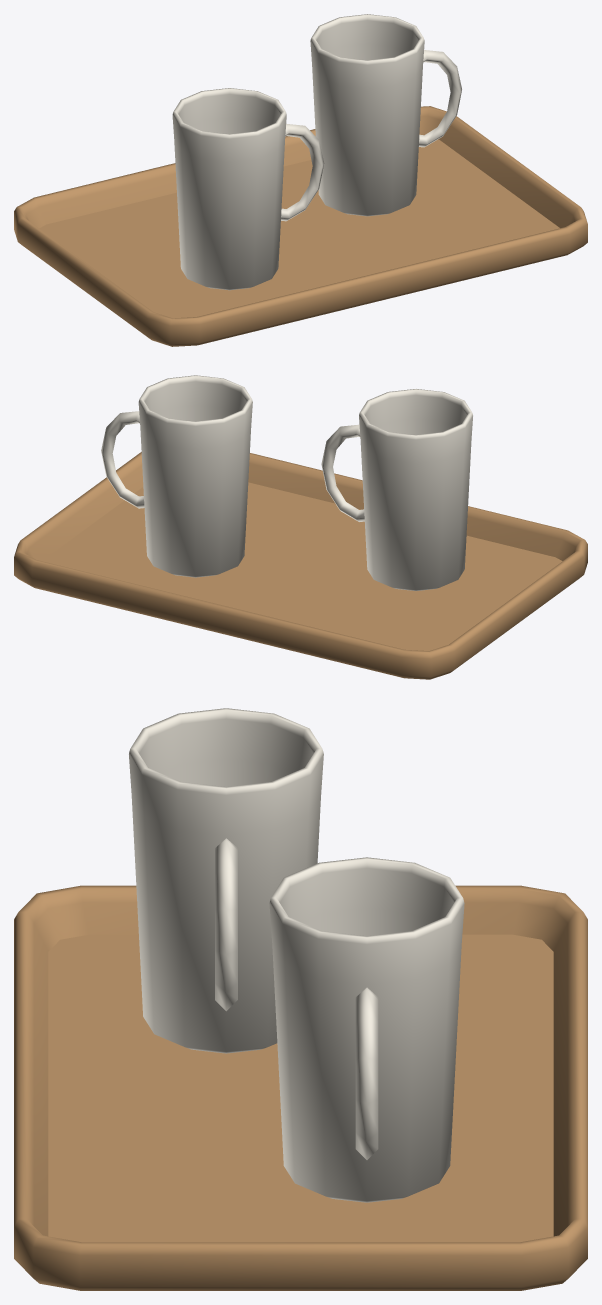
Rendered from original-mug-tray.glb.
3 renders of one model, top to bottom at view 1: azimuth 30°, elevation 25°; view 2: azimuth 150°, elevation 25°; view 3: azimuth 270°, elevation 25°, orthographic. The views are drawn at different scales.
Visible parts, largest first — view 1: original-mug-tray; view 2: original-mug-tray; view 3: original-mug-tray.
Part boxes in pixels (box(x1,y1,x2,y2)): original-mug-tray: box(14, 14, 587, 346); original-mug-tray: box(14, 375, 587, 679); original-mug-tray: box(14, 708, 587, 1290).
Bounding box in the file's own units: 0.3 × 0.11 × 0.2.
